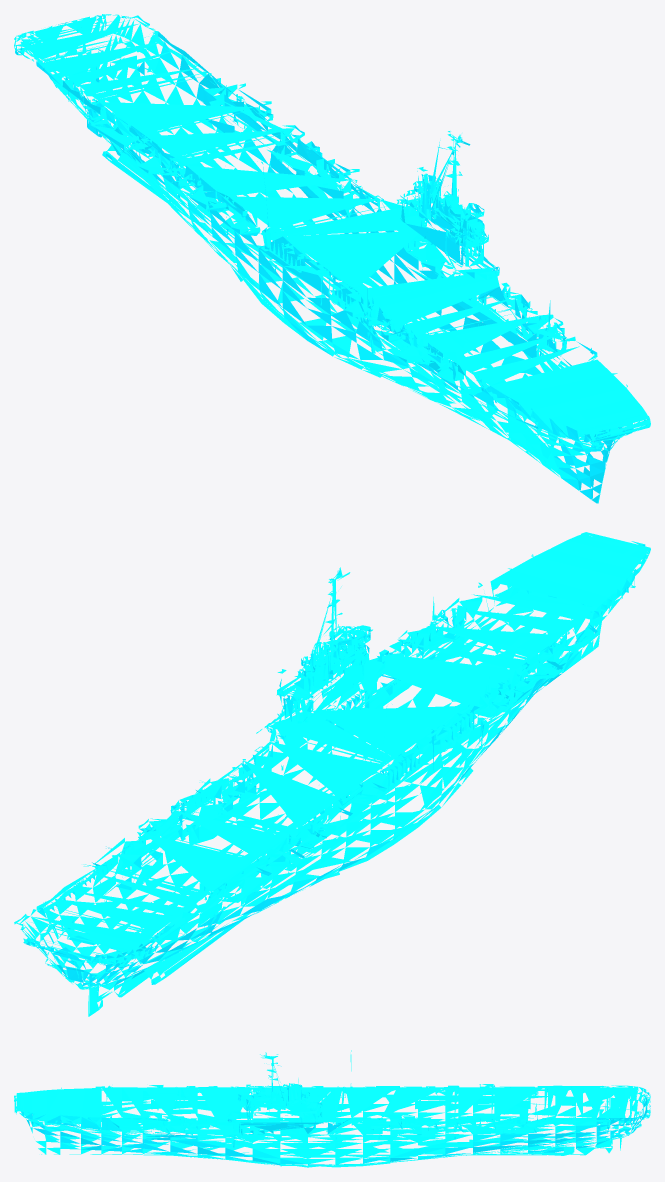
The model's file is Ocean.glb.
3 renders of one model, top to bottom at view 1: azimuth 30°, elevation 25°; view 2: azimuth 150°, elevation 25°; view 3: azimuth 270°, elevation 25°, orthographic. The views are drawn at different scales.
Size of the model in its own units: 2.38 by 2.92 by 14.12.
